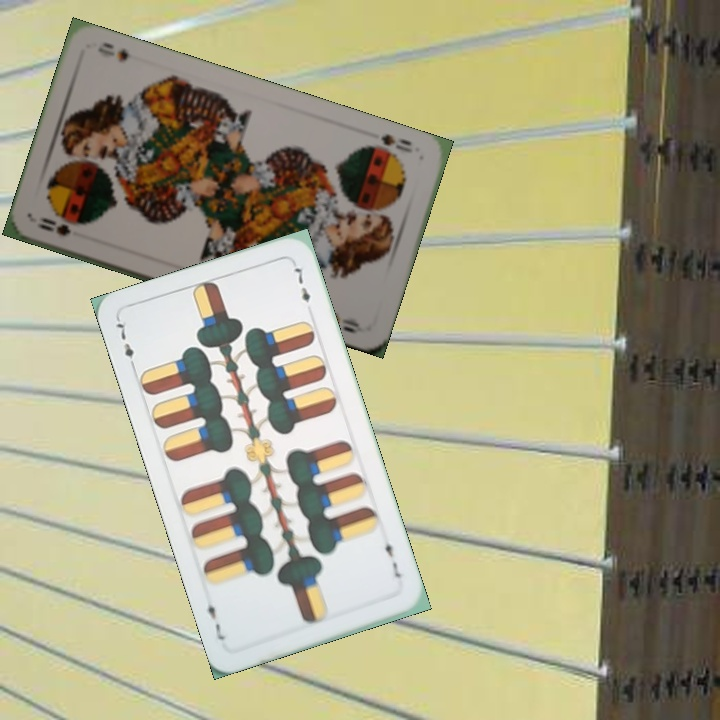E7: (112, 315, 138, 373), (381, 533, 404, 581)
SO: (34, 213, 74, 239), (377, 129, 415, 156)
